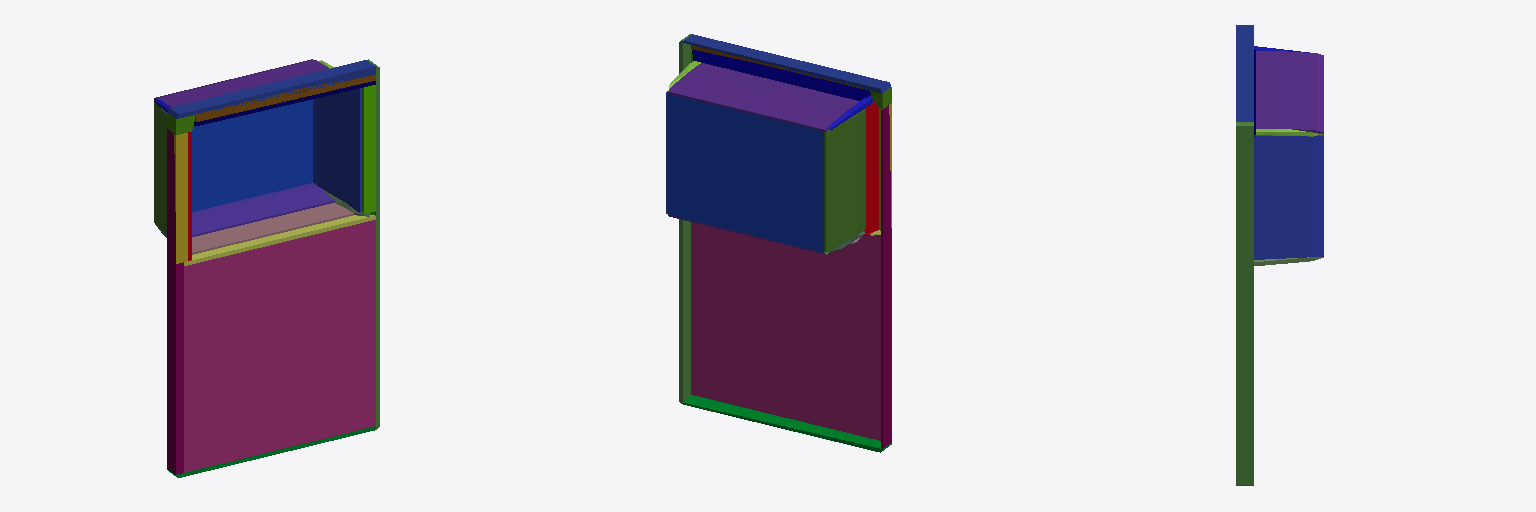
The model's file is Sink.obj.
The picture shows the model from 3 angles: view 1: azimuth 30°, elevation 25°; view 2: azimuth 150°, elevation 25°; view 3: azimuth 270°, elevation 25°; orthographic projection.
Visible parts, largest first — view 1: Shape_IndexedFaceSet.056, Shape_IndexedFaceSet.057, Shape_IndexedFaceSet.051, Shape_IndexedFaceSet.048, Shape_IndexedFaceSet.064, Shape_IndexedFaceSet.061, Shape_IndexedFaceSet.044, Shape_IndexedFaceSet.055, Shape_IndexedFaceSet.063, Shape_IndexedFaceSet.058, Shape_IndexedFaceSet.065, Shape_IndexedFaceSet.049 (+4 smaller); view 2: Shape_IndexedFaceSet.056, Shape_IndexedFaceSet.057, Shape_IndexedFaceSet.055, Shape_IndexedFaceSet.049, Shape_IndexedFaceSet.048, Shape_IndexedFaceSet.047, Shape_IndexedFaceSet.061, Shape_IndexedFaceSet.050, Shape_IndexedFaceSet.053, Shape_IndexedFaceSet.052; view 3: Shape_IndexedFaceSet.051, Shape_IndexedFaceSet.047, Shape_IndexedFaceSet.055, Shape_IndexedFaceSet.061.
Boxes of the visible parts, x1,y1,x2,y2 form: Shape_IndexedFaceSet.056: [184, 220, 375, 472]; Shape_IndexedFaceSet.057: [192, 99, 312, 211]; Shape_IndexedFaceSet.051: [313, 88, 361, 212]; Shape_IndexedFaceSet.048: [167, 129, 183, 474]; Shape_IndexedFaceSet.064: [192, 183, 334, 236]; Shape_IndexedFaceSet.061: [167, 60, 375, 118]; Shape_IndexedFaceSet.044: [192, 203, 353, 254]; Shape_IndexedFaceSet.055: [154, 59, 329, 106]; Shape_IndexedFaceSet.063: [362, 85, 375, 214]; Shape_IndexedFaceSet.058: [184, 215, 375, 265]; Shape_IndexedFaceSet.065: [174, 133, 187, 263]; Shape_IndexedFaceSet.049: [154, 102, 166, 233]; Shape_IndexedFaceSet.056: [691, 222, 880, 440]; Shape_IndexedFaceSet.057: [668, 94, 823, 251]; Shape_IndexedFaceSet.055: [668, 63, 859, 131]; Shape_IndexedFaceSet.049: [824, 109, 865, 252]; Shape_IndexedFaceSet.048: [881, 105, 891, 448]; Shape_IndexedFaceSet.047: [679, 34, 691, 403]; Shape_IndexedFaceSet.061: [683, 34, 890, 92]; Shape_IndexedFaceSet.050: [683, 395, 891, 452]; Shape_IndexedFaceSet.053: [692, 50, 870, 100]; Shape_IndexedFaceSet.052: [864, 101, 878, 235]; Shape_IndexedFaceSet.051: [1254, 135, 1323, 259]; Shape_IndexedFaceSet.047: [1236, 122, 1253, 485]; Shape_IndexedFaceSet.055: [1256, 51, 1323, 134]; Shape_IndexedFaceSet.061: [1236, 25, 1253, 121].
Bounding box in the file's own units: 0.5053 × 0.8649 × 0.1895.